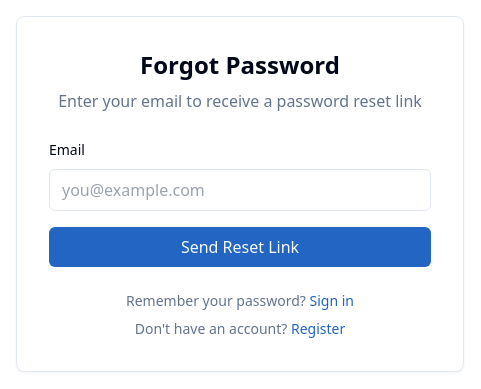
Test: ForgotPassword Page › should show loading state while submitting
Type "test@example.com" into the field labelled "Email". click: point(240, 190)
box: [49,169,431,211]
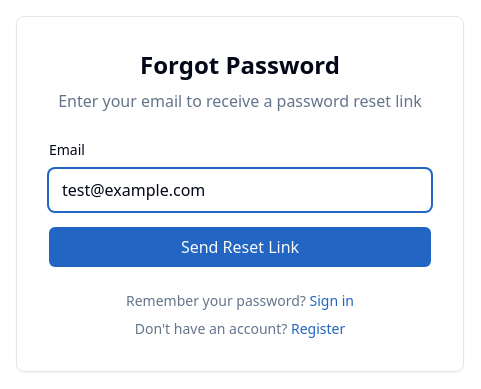
Click the button "Send Reset Link". click: point(240, 247)
box: [49,227,431,267]
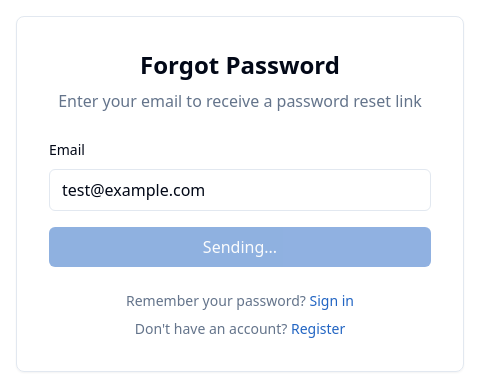
Now the button "Sending..." is shown, box [49,227,431,267]
